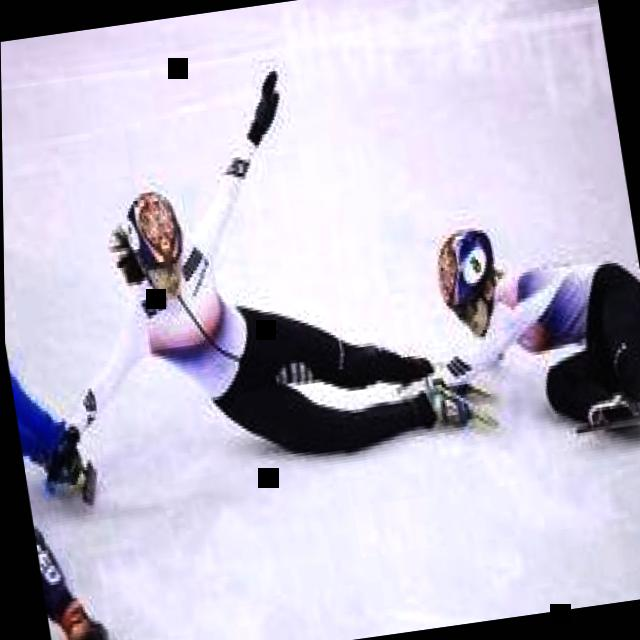Fall-Detected: (79, 88, 496, 512)
